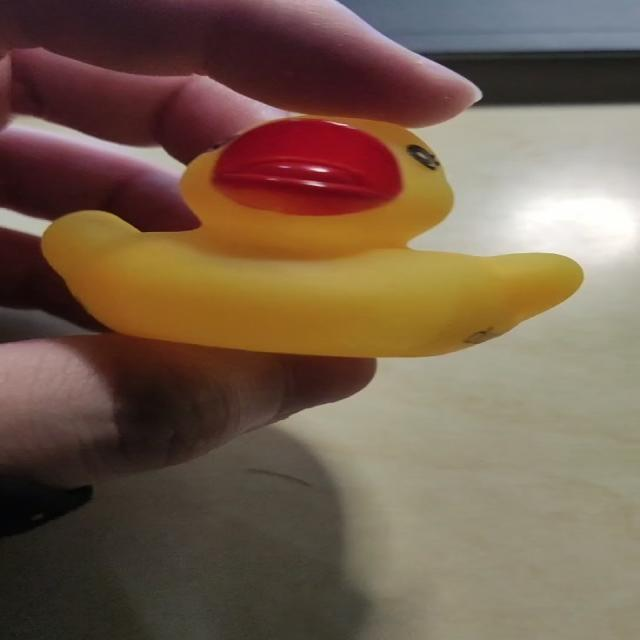rubber-duck: (41, 115, 581, 355)
